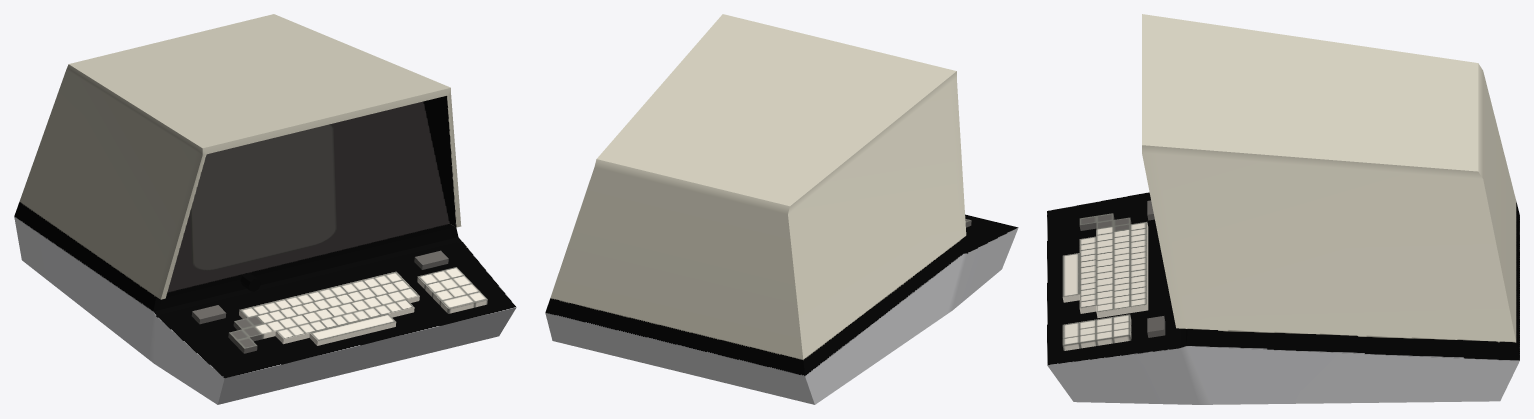
File: terminal.glb
The picture shows the model from 3 angles, left to right: view 1: azimuth 30°, elevation 25°; view 2: azimuth 150°, elevation 25°; view 3: azimuth 270°, elevation 25°; orthographic projection. The views are drawn at different scales.
Parts seen in each view (by area): view 1: pCube1 terminal, terminal pCube2; view 2: pCube1 terminal; view 3: pCube1 terminal, terminal pCube2.
Part boxes in pixels (bbox=[...]): pCube1 terminal: bbox=[14, 14, 516, 404]; terminal pCube2: bbox=[191, 250, 487, 353]; pCube1 terminal: bbox=[545, 14, 1018, 404]; pCube1 terminal: bbox=[1047, 14, 1519, 404]; terminal pCube2: bbox=[1062, 200, 1165, 350].
Bounding box in the file's own units: 0.0183 × 0.0131 × 0.0226.
Materials: 1 (1 with a texture image).
